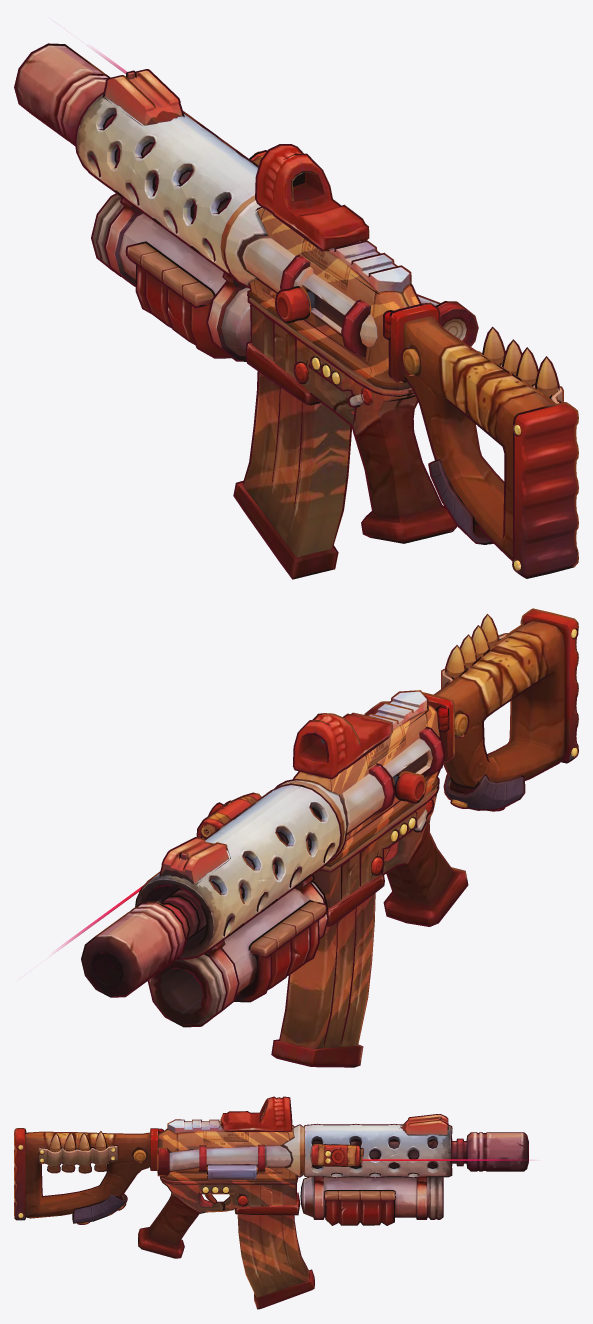
File: rifle.glb
3 views of the same model, one above another, from view 1: azimuth 30°, elevation 25°; view 2: azimuth 150°, elevation 25°; view 3: azimuth 270°, elevation 25° (orthographic). The views are drawn at different scales.
Parts seen in each view (by area): view 1: guN_0, ChellShading_1; view 2: guN_0, ChellShading_1; view 3: guN_0, ChellShading_1.
Boxes of the visible parts, x1=… form: guN_0: x1=16, y1=45, x2=576, y2=577; ChellShading_1: x1=14, y1=43, x2=578, y2=579; guN_0: x1=55, y1=610, x2=577, y2=1065; ChellShading_1: x1=81, y1=608, x2=578, y2=1067; guN_0: x1=15, y1=1097, x2=530, y2=1308; ChellShading_1: x1=14, y1=1096, x2=528, y2=1309.
Size of what is drawn, in the model's own units: 2.34 by 6.95 by 17.25.
Materials: 2 (2 with a texture image).
